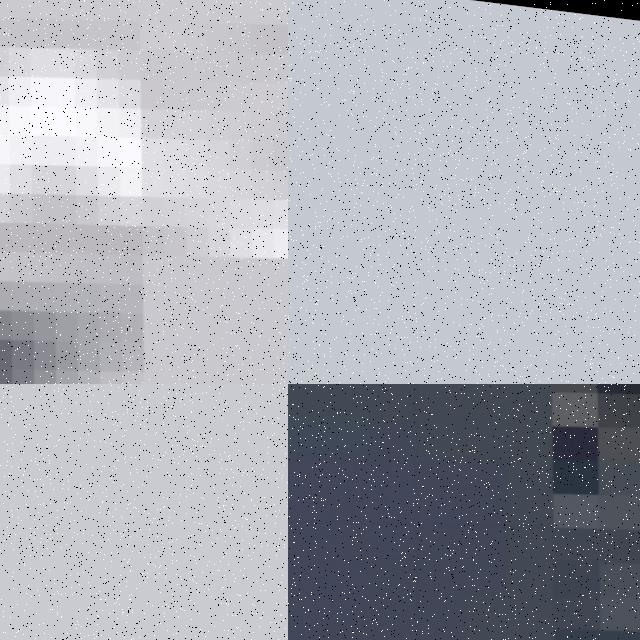0: (0, 0, 288, 384)
drone: (288, 384, 640, 640)
